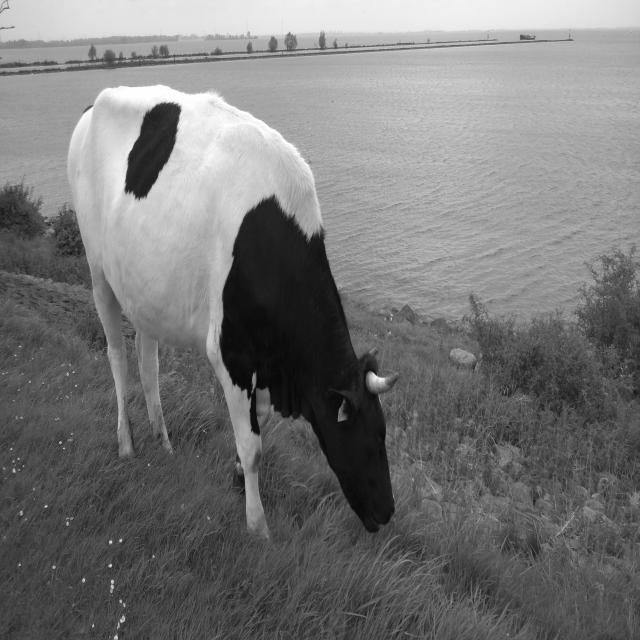cow: (68, 84, 395, 535)
